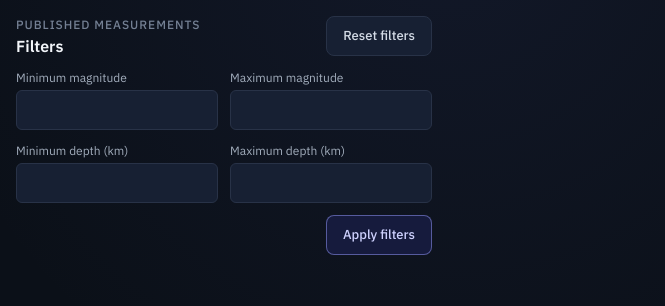
BrowseFilters › rejects inverted ranges before querying
Type "20" into the number field labelled "Minimum depth (km)" at [117, 183], box [16,163,218,203]
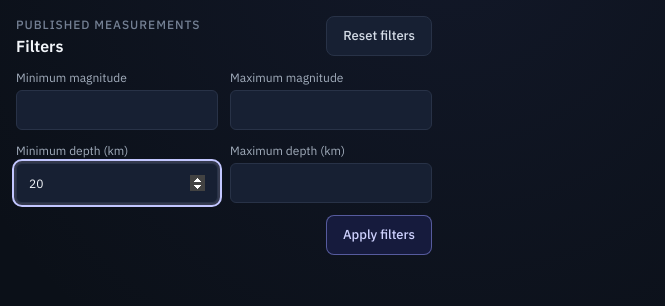
Type "10" into the number field labelled "Maximum depth (km)" at [331, 183], box [230,163,432,203]
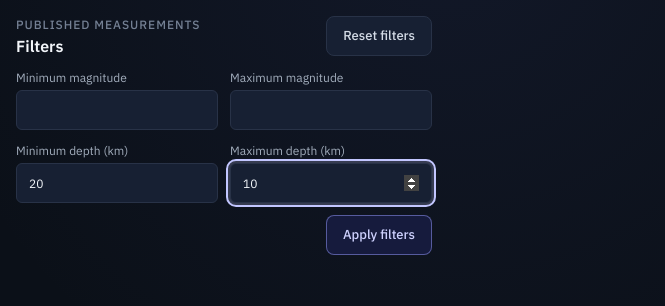
Click the button "Apply filters" at [379, 235], box [326,215,432,255]
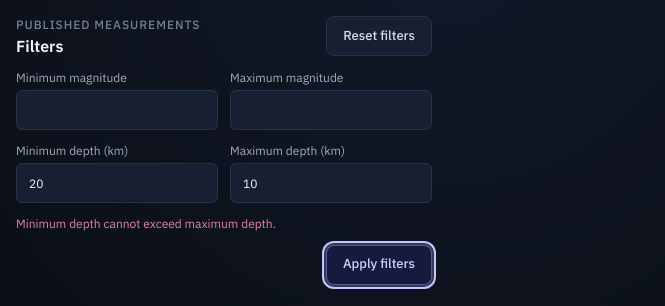
expect the message shows "Minimum depth cannot exceed maximum depth": met, box [16,216,276,231]
